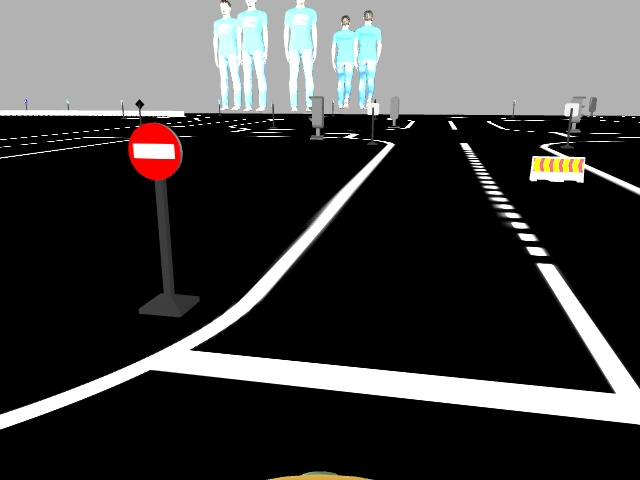ClosedRoadStand: (532, 156, 583, 181)
NoEntry: (126, 123, 181, 175)
